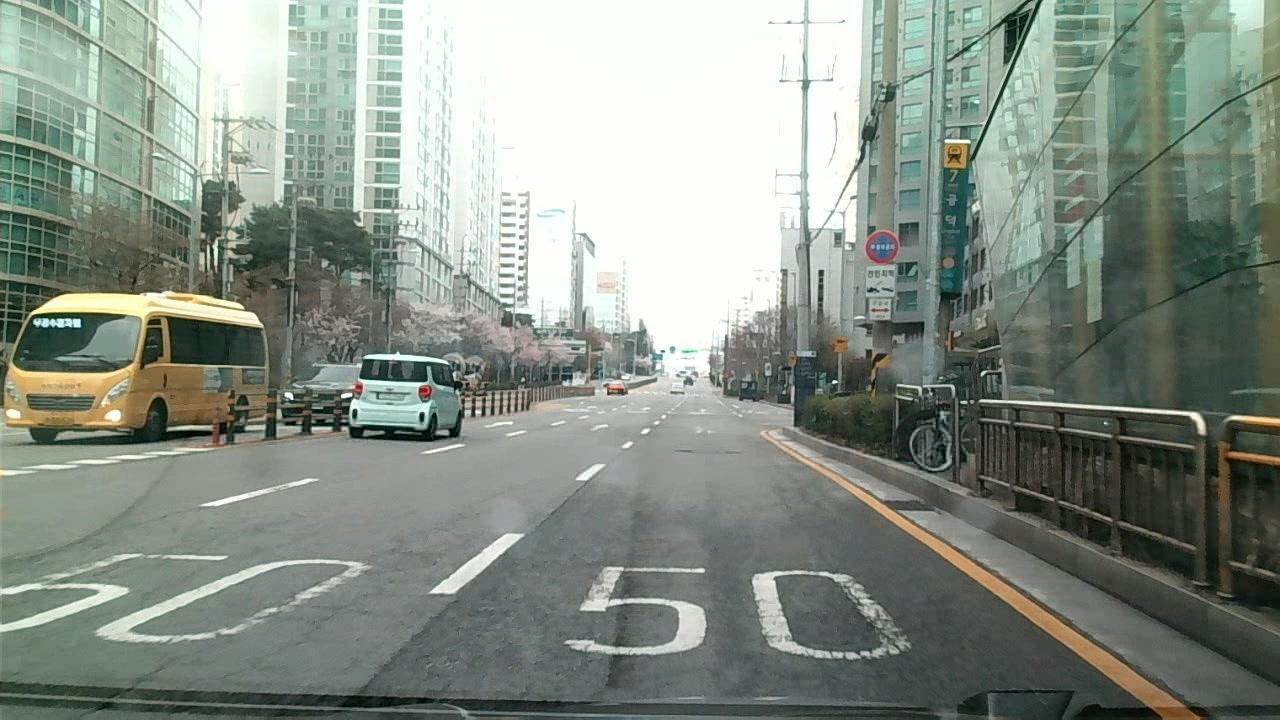vcrack: (335, 595, 453, 700), (72, 657, 171, 713), (602, 552, 638, 693), (532, 480, 590, 532)
